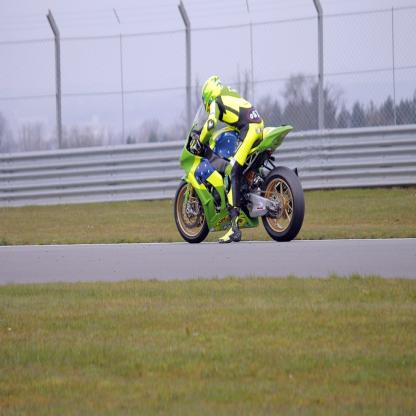Helmet: (200, 74, 222, 109)
